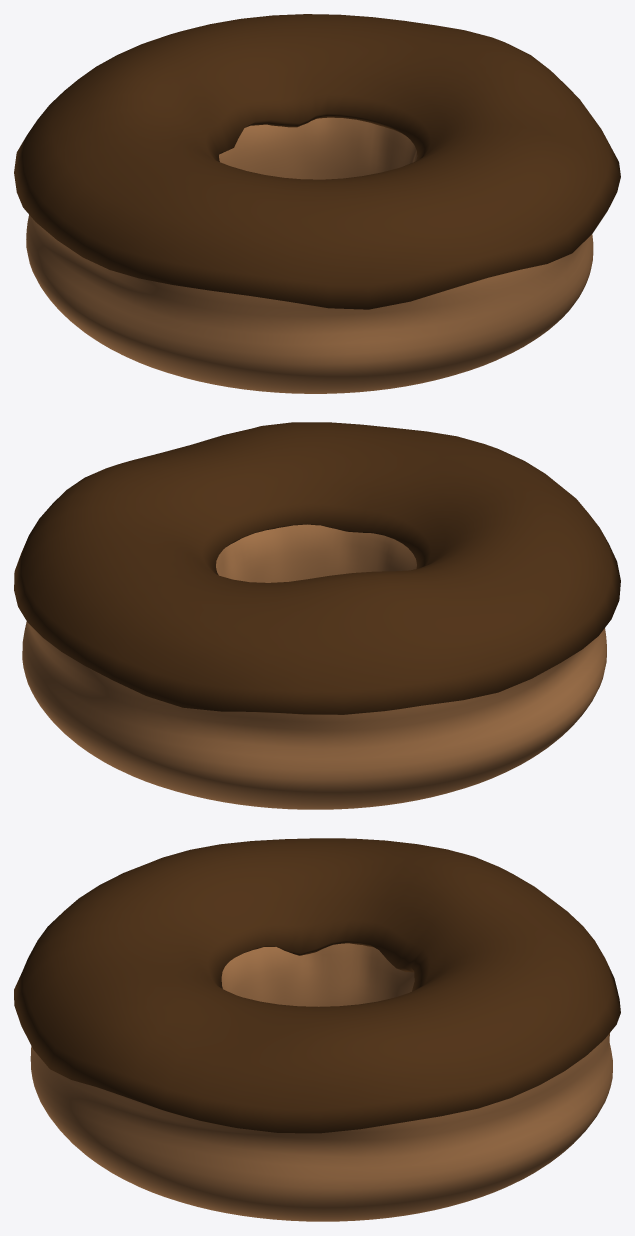
The model's file is doughnut_e5db252d.glb.
3 renders of one model, top to bottom at view 1: azimuth 30°, elevation 25°; view 2: azimuth 150°, elevation 25°; view 3: azimuth 270°, elevation 25°, orthographic.
Visible parts, largest first — view 1: Donnut; view 2: Donnut; view 3: Donnut.
Boxes of the visible parts, x1,y1,x2,y2 form: Donnut: (14, 14, 620, 393); Donnut: (14, 422, 620, 809); Donnut: (14, 838, 620, 1221).
Bounding box in the file's own units: 0.2745 × 0.1058 × 0.2755.
Materials: 2 (1 with a texture image).
